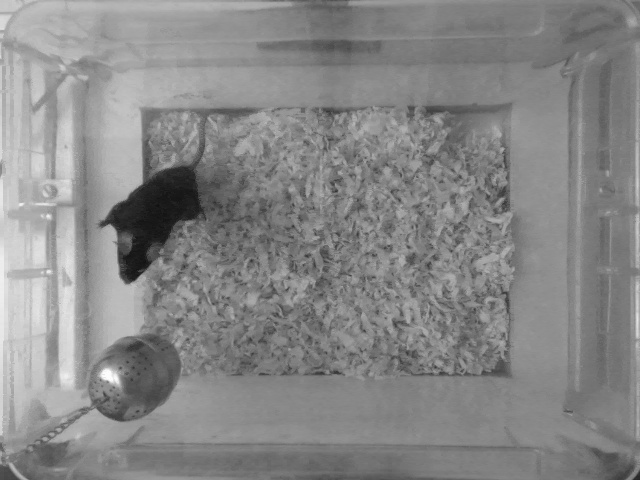mice: (91, 105, 223, 285)
